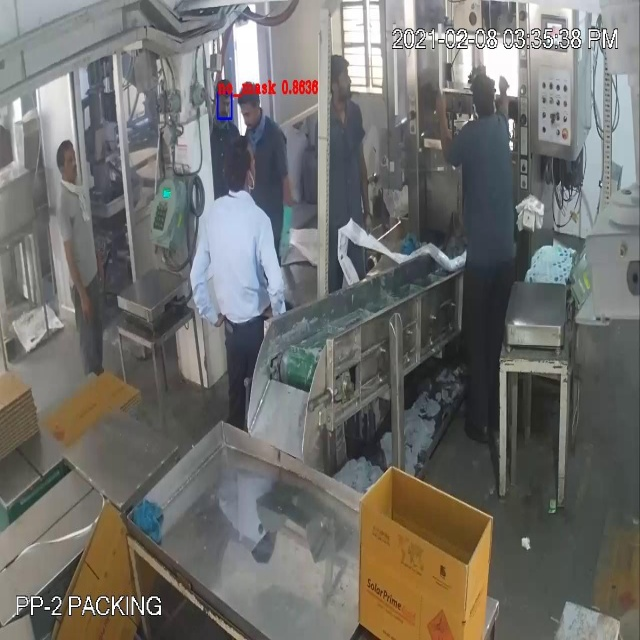Guantes: (274, 188, 302, 271)
Sin_guantes: (180, 237, 222, 334), (257, 210, 289, 323), (57, 226, 88, 322), (354, 123, 376, 241), (433, 78, 457, 170), (494, 65, 514, 155)
